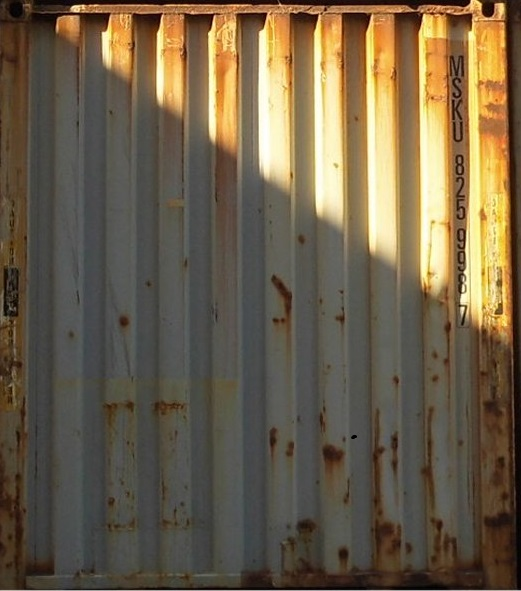container_no_door: (3, 4, 508, 579)
